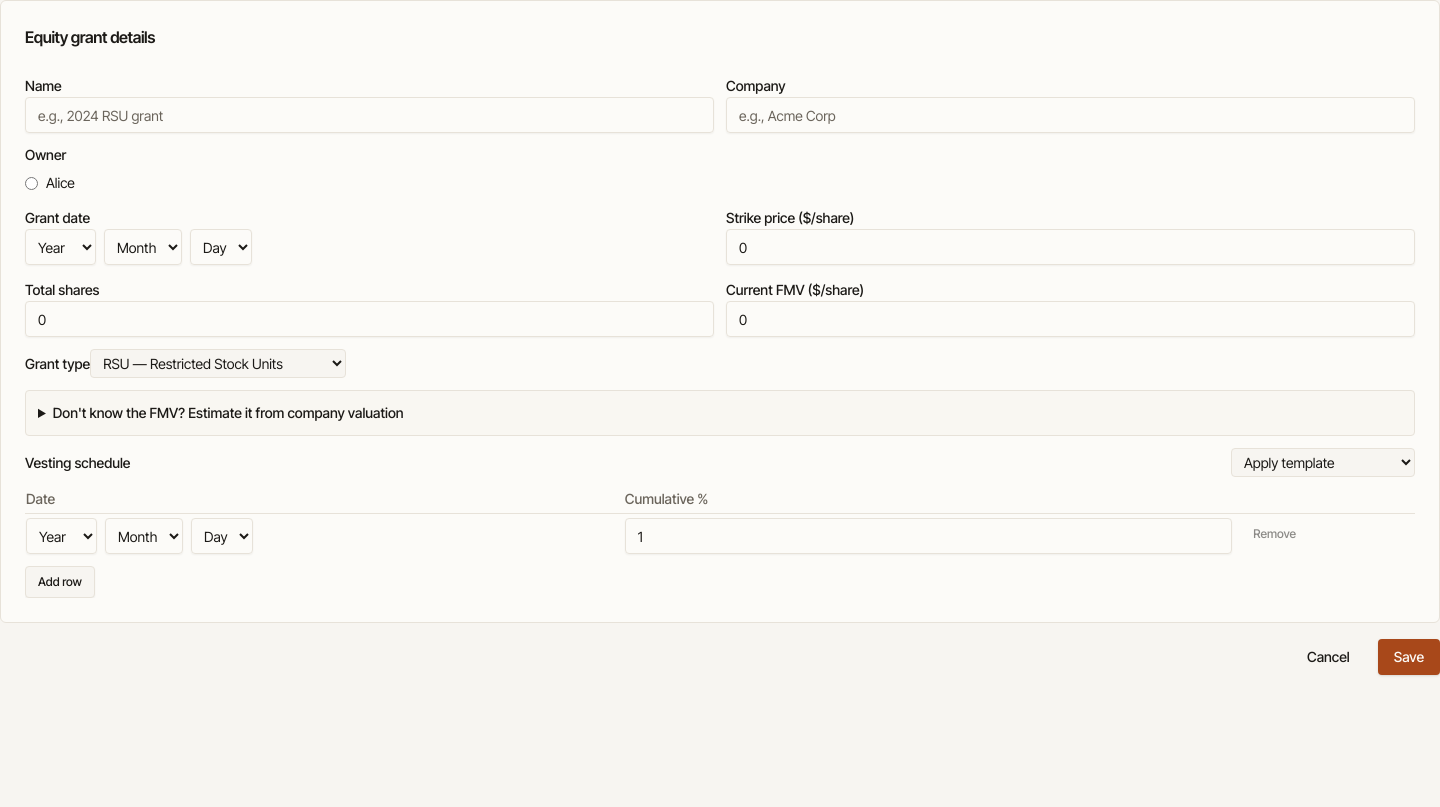
Test case: EquityGrantForm — calculator section › disables "Use this value" until all three inputs are valid
The width and height of the screenshot is (1440, 807).
Click the heading "Don't know the FMV? Estimate it from company valuation" at (228, 412), box [53,404,404,421]
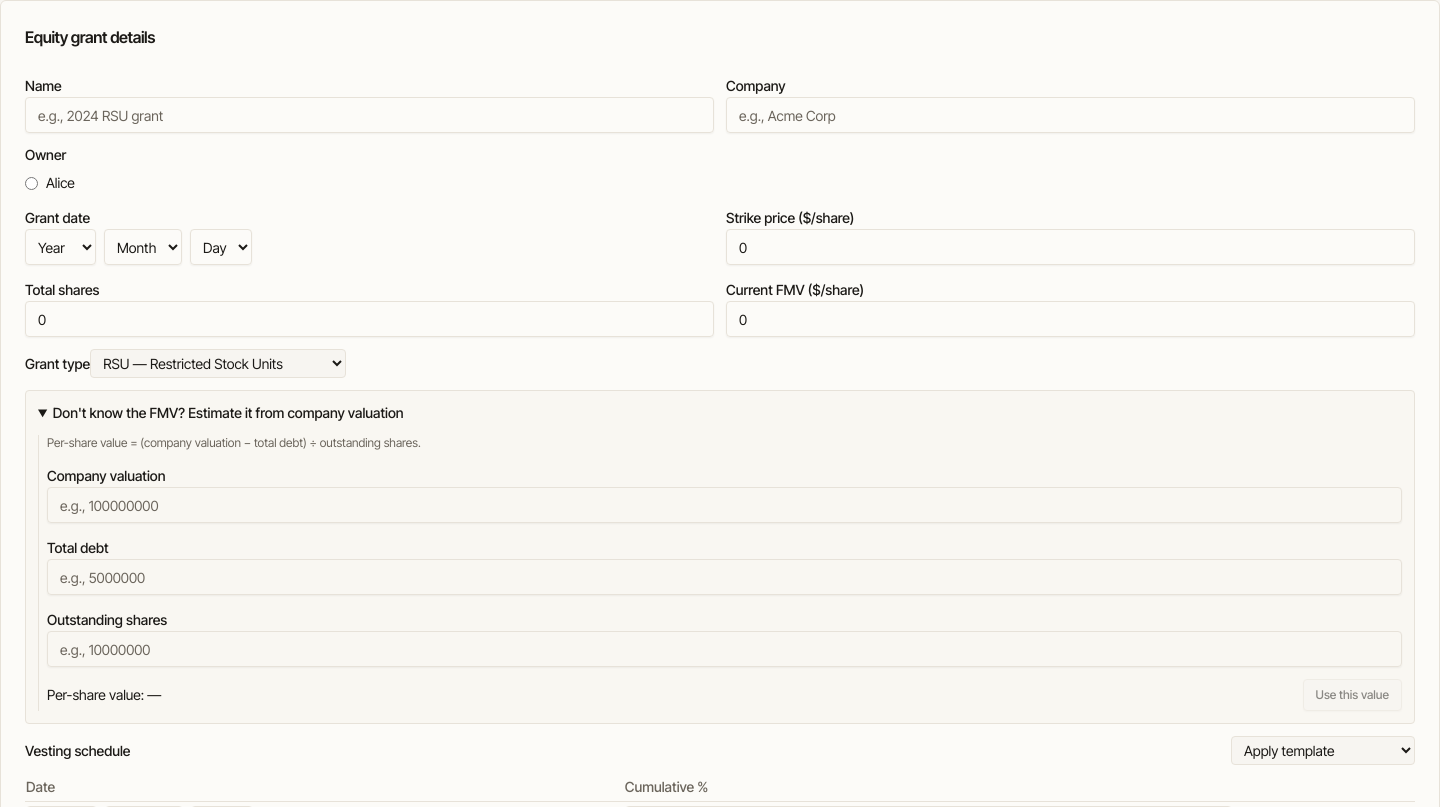
Expected: the button "Use this value" is disabled, [1303,679,1402,711]
Type "1000000" into the number field labelled "Company valuation" at (724, 505), box [47,487,1402,523]
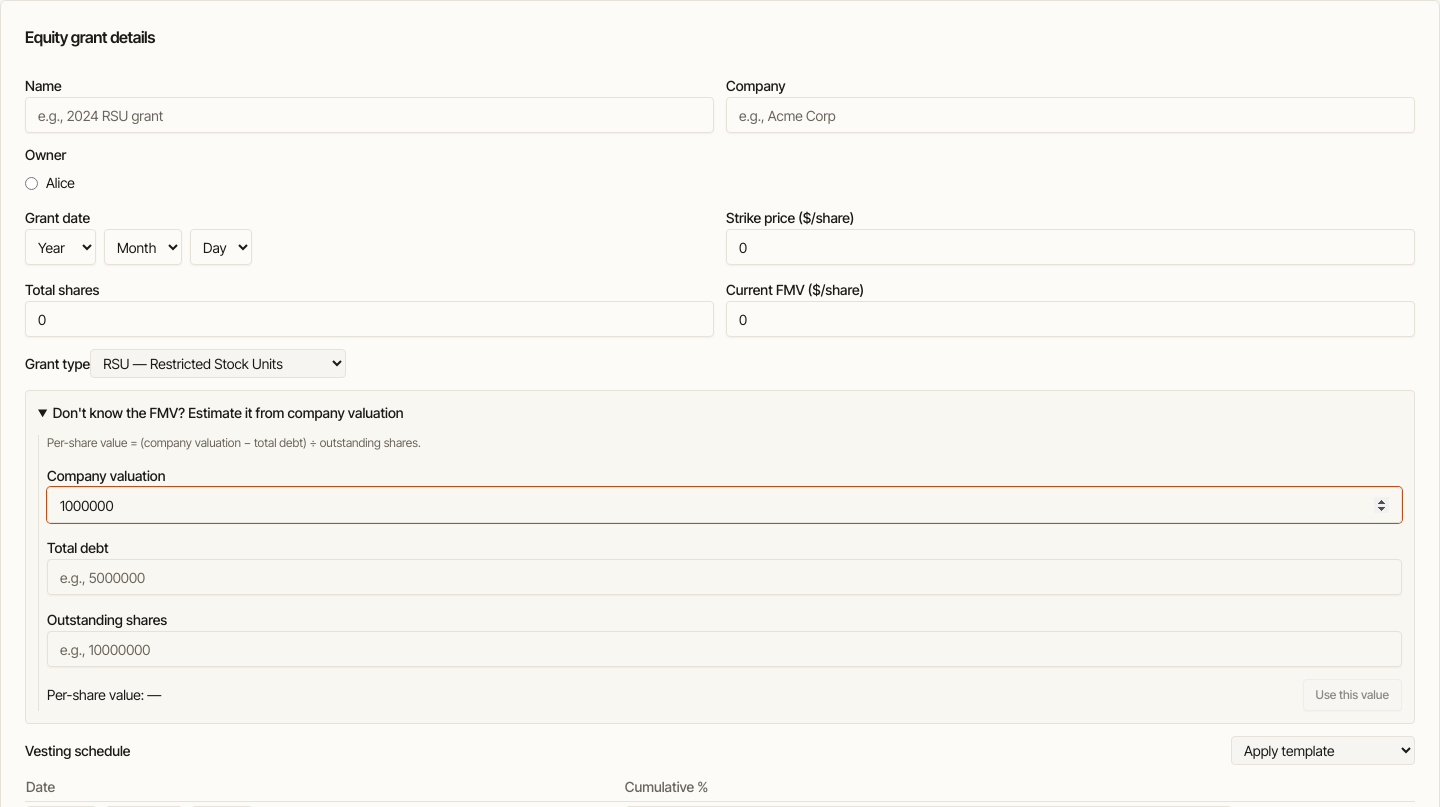
Expected: the button "Use this value" is disabled, [1303,679,1402,711]
Type "0" into the number field labelled "Total debt" at (724, 577), box [47,559,1402,595]
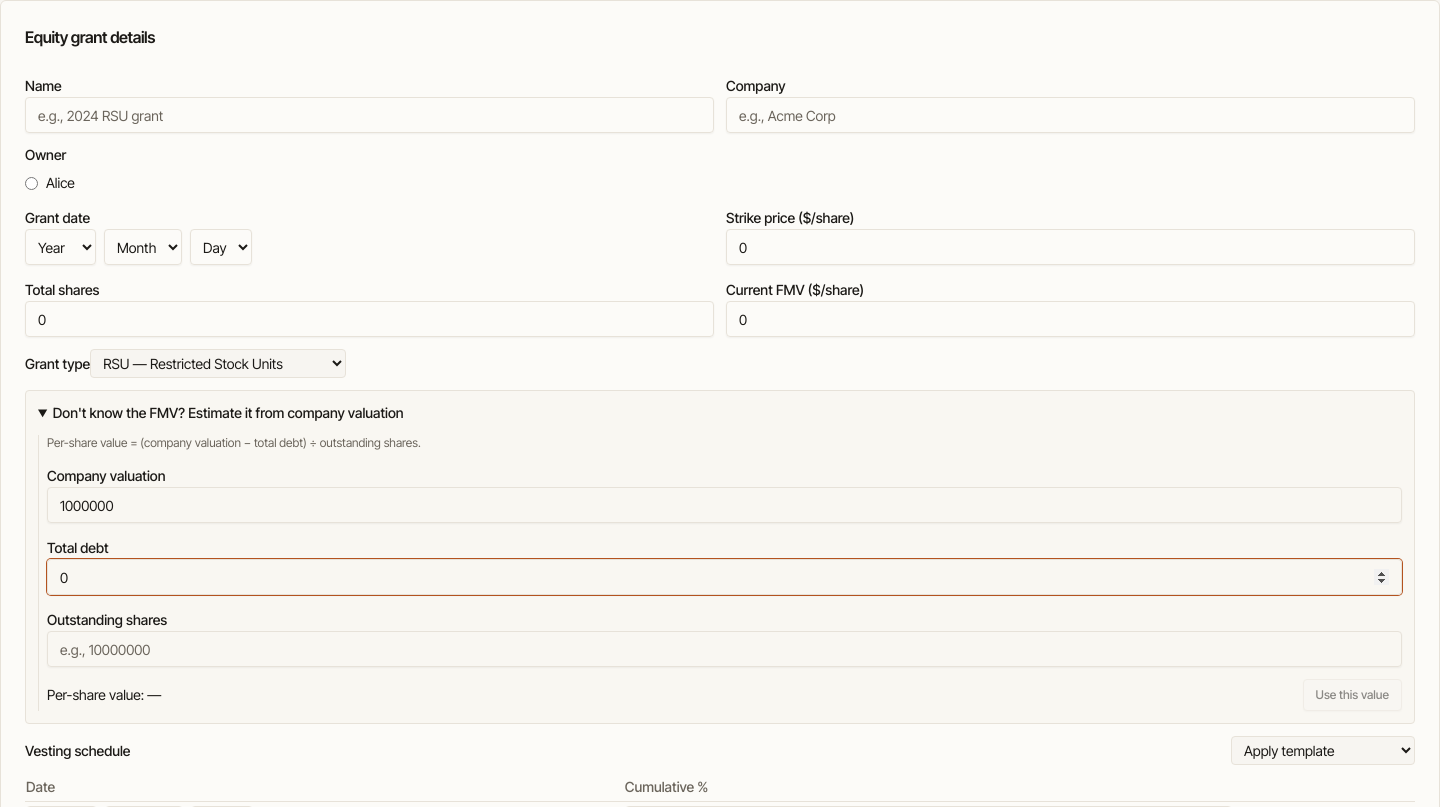
Expected: the button "Use this value" is disabled, [1303,679,1402,711]
Type "100000" into the number field labelled "Outstanding shares" at (724, 649), box [47,631,1402,667]
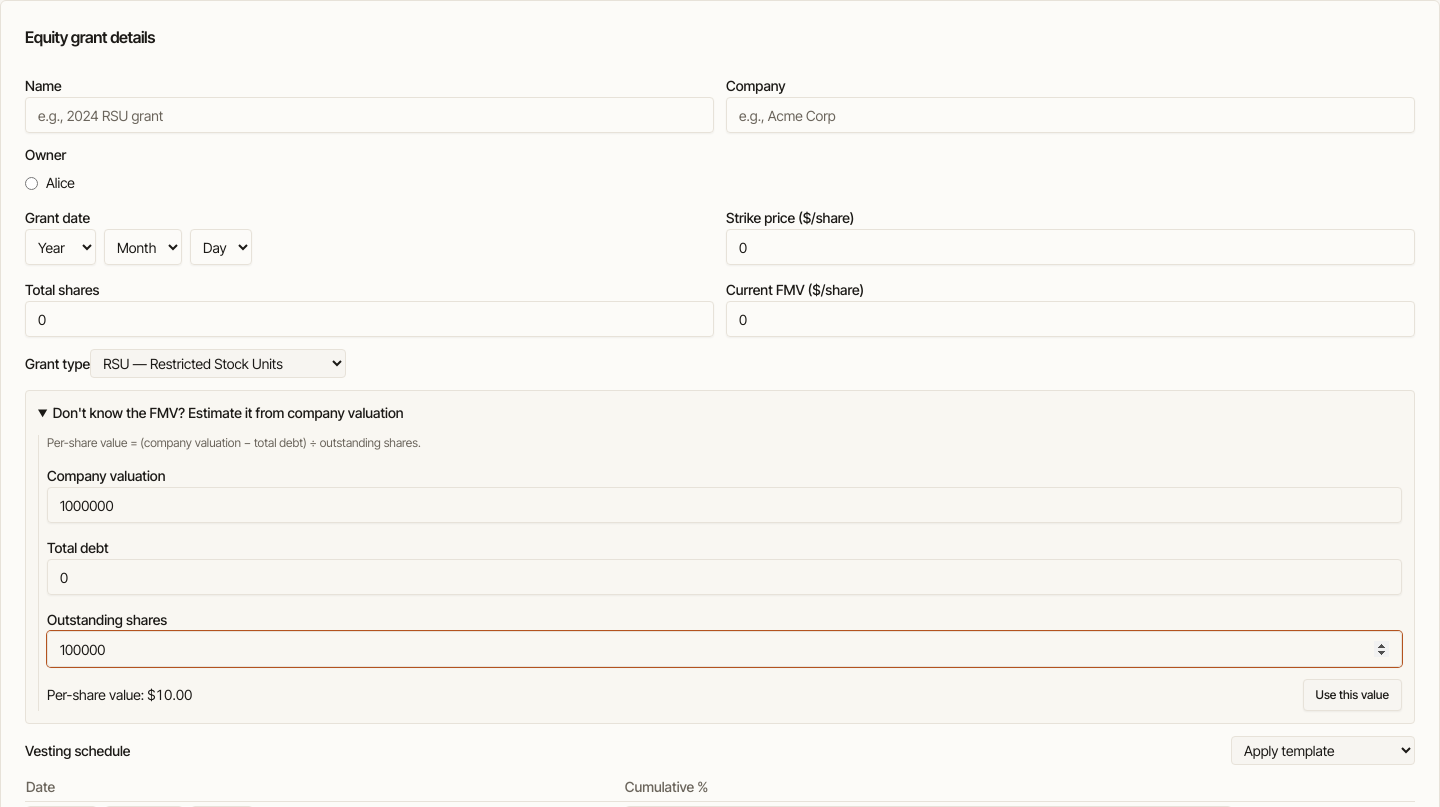
Expected: the button "Use this value" is enabled, [1303,679,1402,711]
